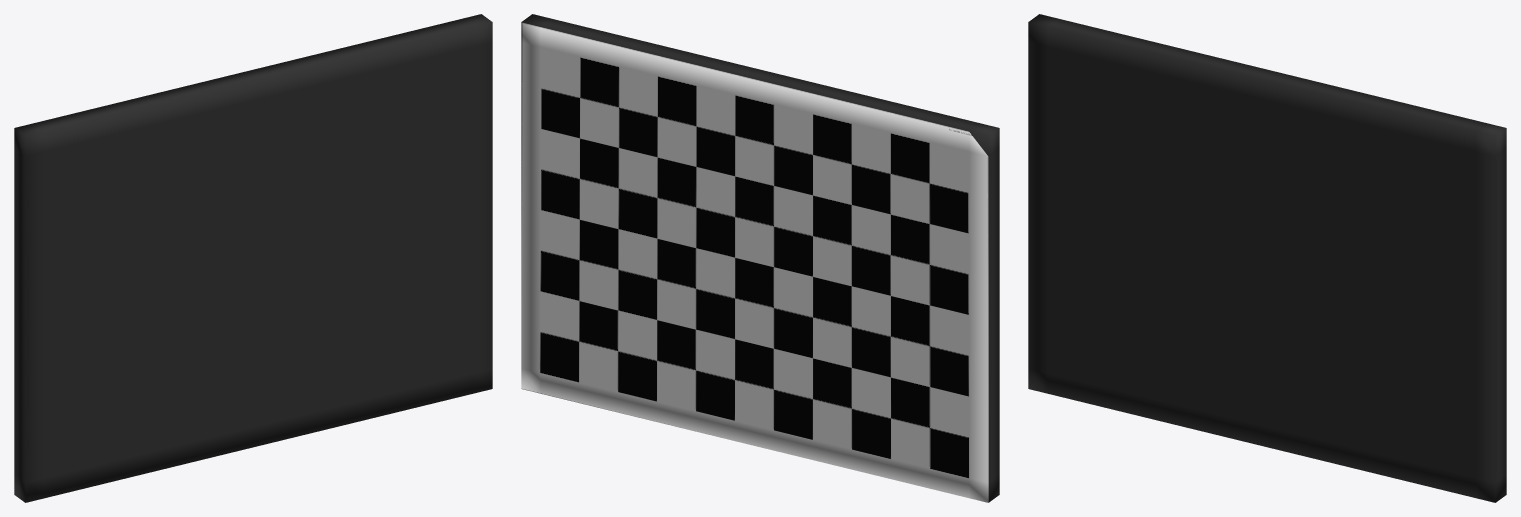
The model's file is pattern.obj.
The picture shows the model from 3 angles, left to right: view 1: azimuth 30°, elevation 25°; view 2: azimuth 150°, elevation 25°; view 3: azimuth 330°, elevation 25°; orthographic projection.
Size of the model in its own units: 1.2 by 0.9 by 0.05.
Materials: 1 (1 with a texture image).
